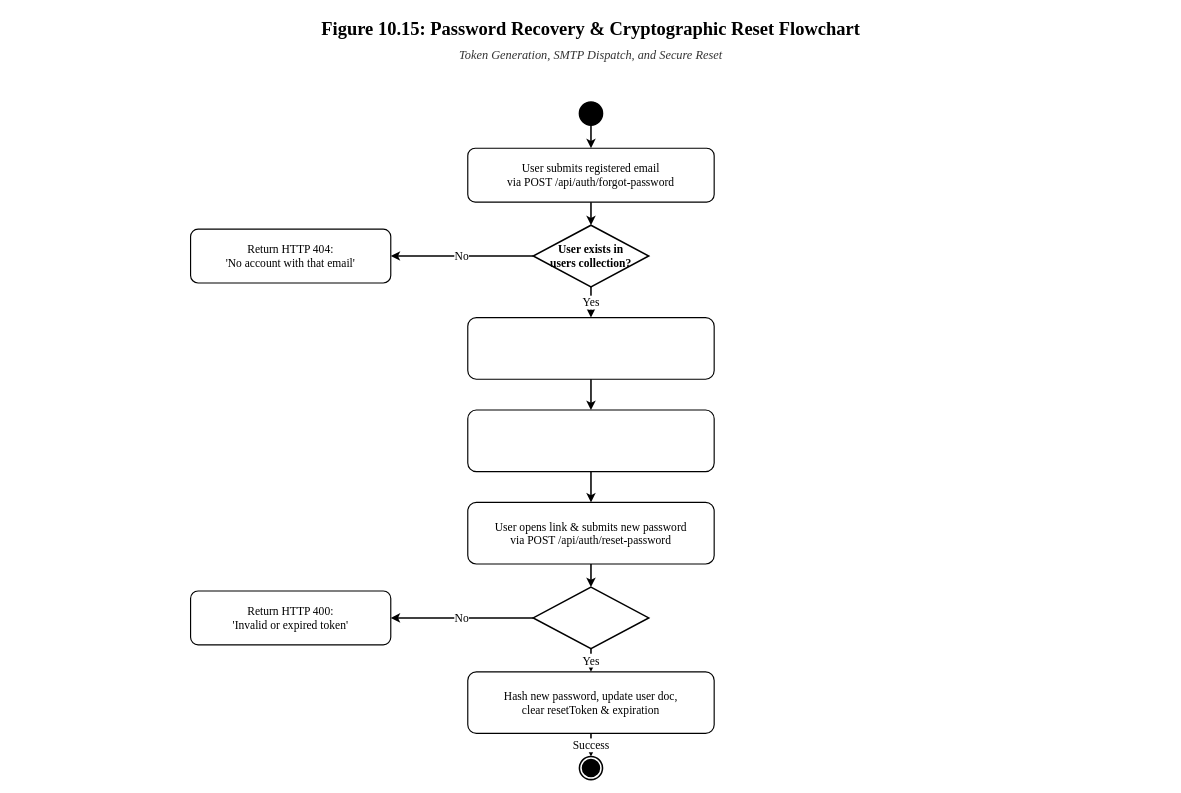
Some shapes in this 1181 by 793 pixel diagram are drawn without their labels. Here are the shapes that lost their labels. From the top down, the centre of each, then its label:
pixel 590 348: Generate 32-byte crypto hex token & set expiration (Date.now() + 1 hour)
pixel 590 440: Dispatch reset URL via Nodemailer (reset-password.html?token=...)
pixel 590 617: Token valid & unexpired?
